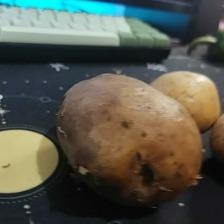Damaged potato: (53, 72, 209, 210)
Potato: (143, 70, 223, 134)
